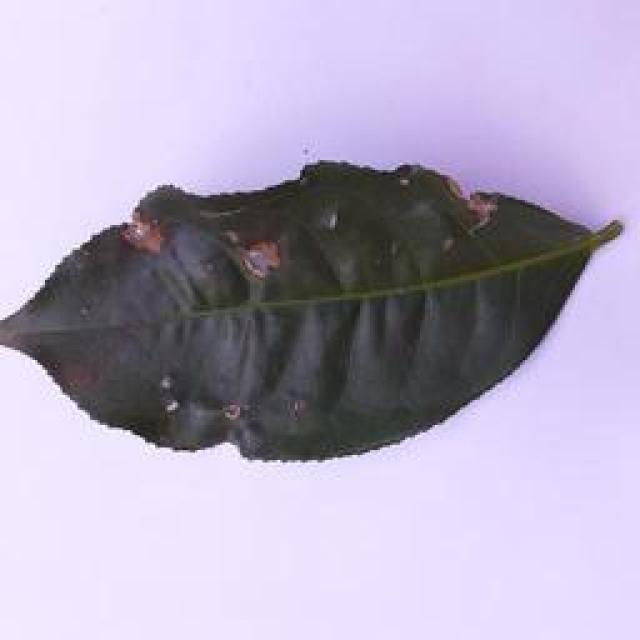Gray Blight: (2, 161, 640, 472)
